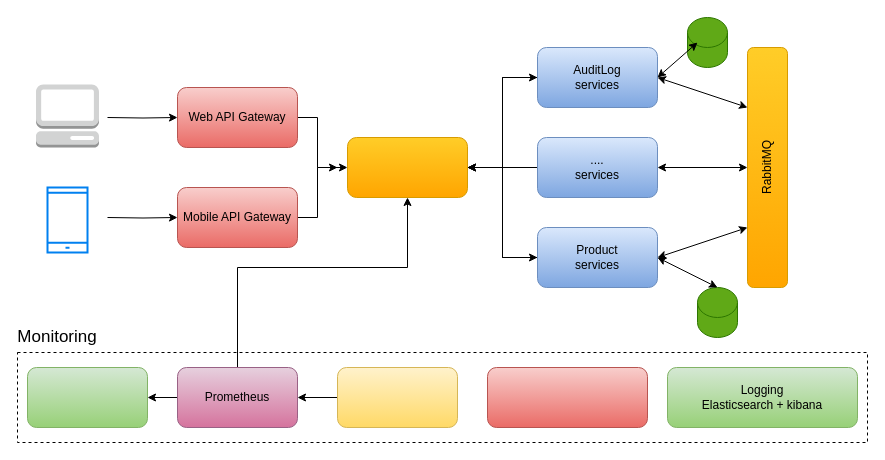
This 885x460 diagram has some shape labels left out. The box of each missing label's shape, as (x1, y1, x2, y2) in pixels:
Alert Mgr: (26, 366, 148, 428)
Consul Services Discovery: (346, 136, 468, 198)
Garana: (336, 366, 458, 428)
Health Checks: (486, 366, 648, 428)
